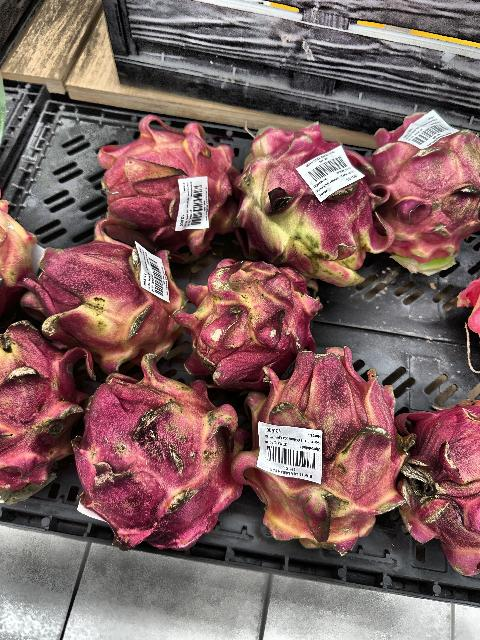buah-naga-belum-matang: (250, 346, 420, 560), (83, 364, 245, 556), (242, 117, 392, 287), (86, 115, 238, 251), (33, 240, 193, 364), (368, 106, 480, 280), (0, 320, 82, 516), (182, 260, 314, 380), (0, 200, 36, 322)
buah-naga-matang: (394, 384, 480, 584)
